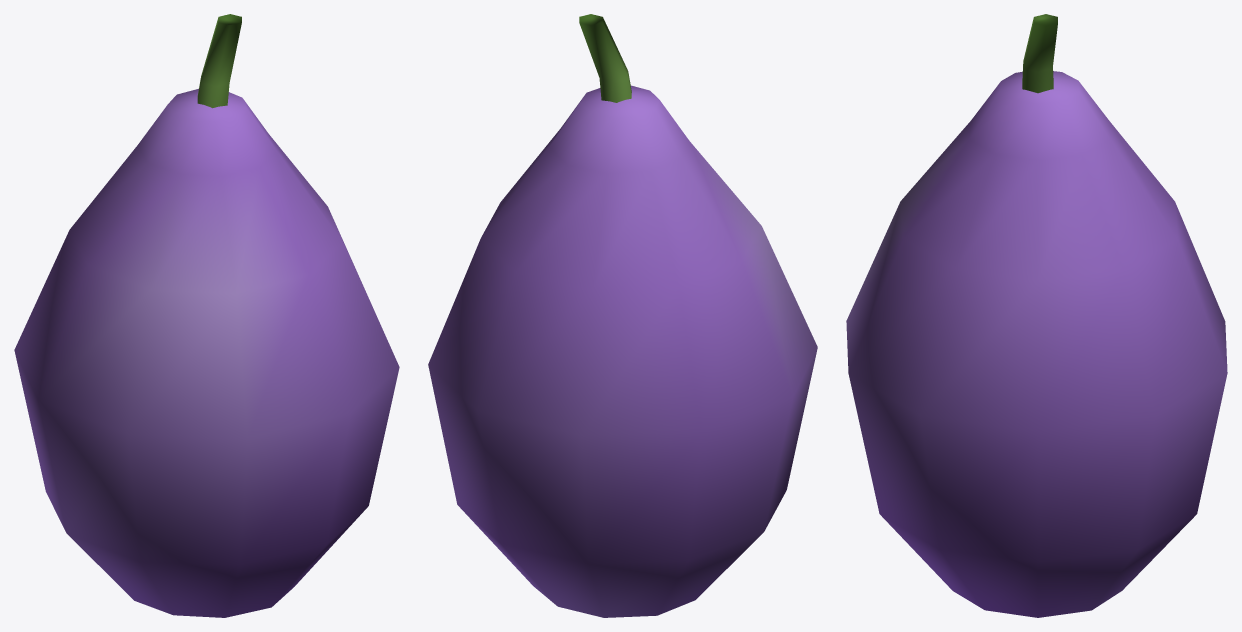
The model's file is food_fruit_d.fbx.
3 views of the same model, side by side, from view 1: azimuth 30°, elevation 25°; view 2: azimuth 150°, elevation 25°; view 3: azimuth 270°, elevation 25° (orthographic). The views are drawn at different scales.
Parts seen in each view (by area): view 1: food_fruit_d; view 2: food_fruit_d; view 3: food_fruit_d.
Part boxes in pixels (<box>): food_fruit_d: <box>14,14,399,617</box>; food_fruit_d: <box>428,14,817,617</box>; food_fruit_d: <box>846,14,1227,617</box>.
Bounding box in the file's own units: 100 × 164 × 95.26.
